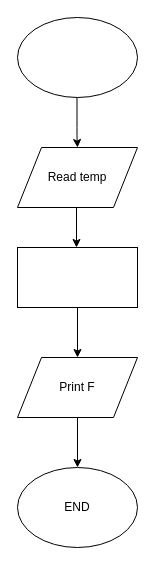
The diagram is 155 pixels wide and 565 high, and some of its shapes have lost their labels. The shapes that lost their labels are listed below. From the top down, each one's centre as x and y in pixels, then its label:
At (x=77, y=57): "START".
At (x=77, y=277): "F= 32+(9*temp/5)".
